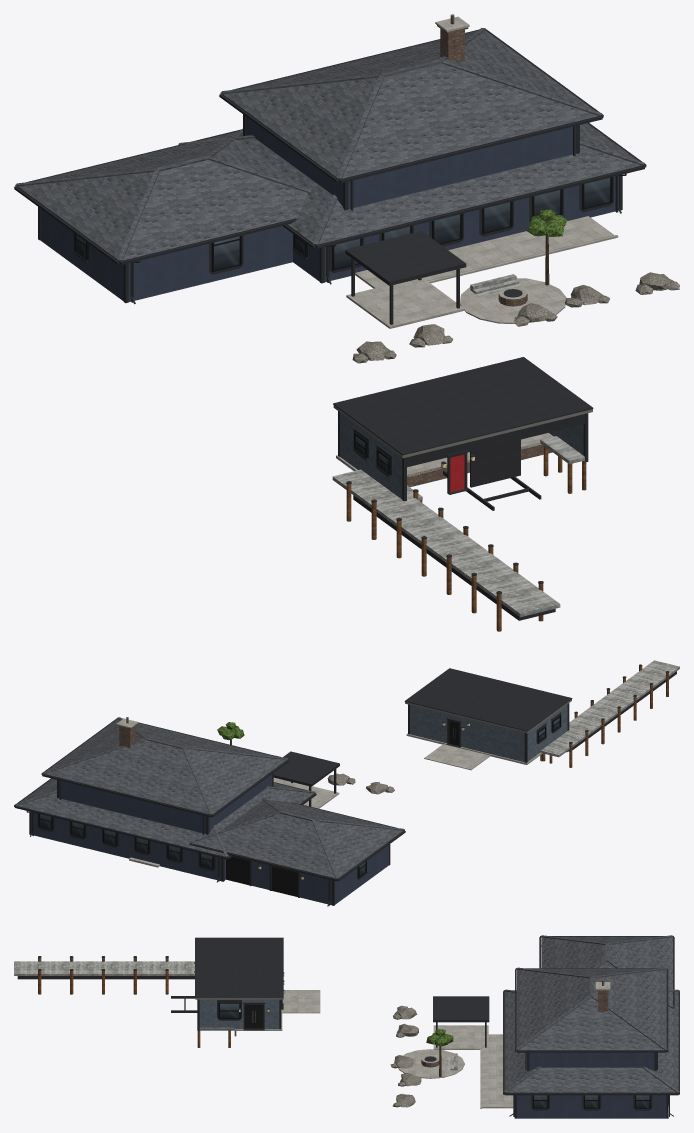
Rendered from lot-8229.fbx.
The picture shows the model from 3 angles, top to bottom: view 1: azimuth 30°, elevation 25°; view 2: azimuth 150°, elevation 25°; view 3: azimuth 270°, elevation 25°; orthographic projection. The views are drawn at different scales.
Parts seen in each view (by area): view 1: lot-8229_LOD0; view 2: lot-8229_LOD0; view 3: lot-8229_LOD0.
Boxes of the visible parts, x1,y1,x2,y2 form: lot-8229_LOD0: [14, 14, 679, 631]; lot-8229_LOD0: [14, 660, 679, 906]; lot-8229_LOD0: [14, 935, 679, 1118].
Size of what is drawn, in the model's own units: 30.9 by 11.26 by 54.35.
Materials: 2 (2 with a texture image).
